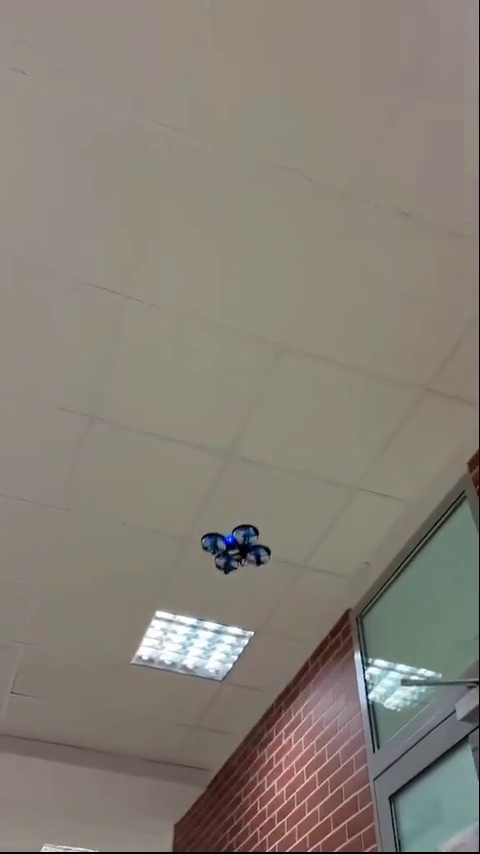drone: (200, 526, 273, 575)
